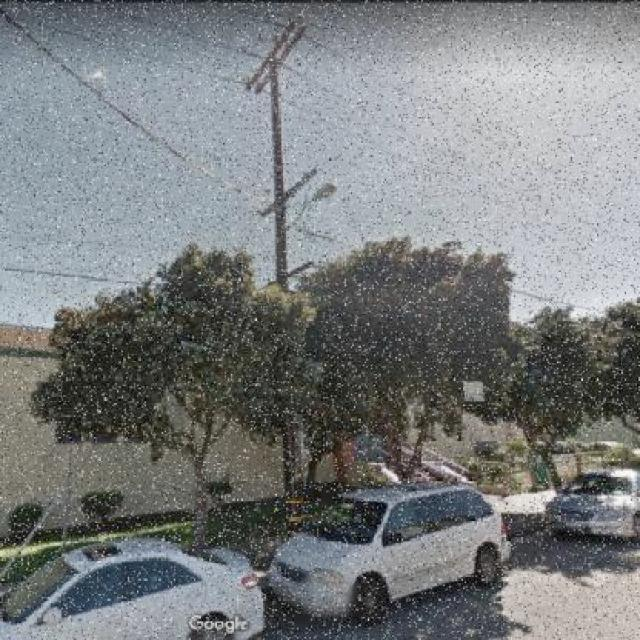crossarm: (243, 16, 310, 96), (257, 164, 318, 219)
pole: (266, 49, 301, 500)
wire: (0, 6, 272, 212)
